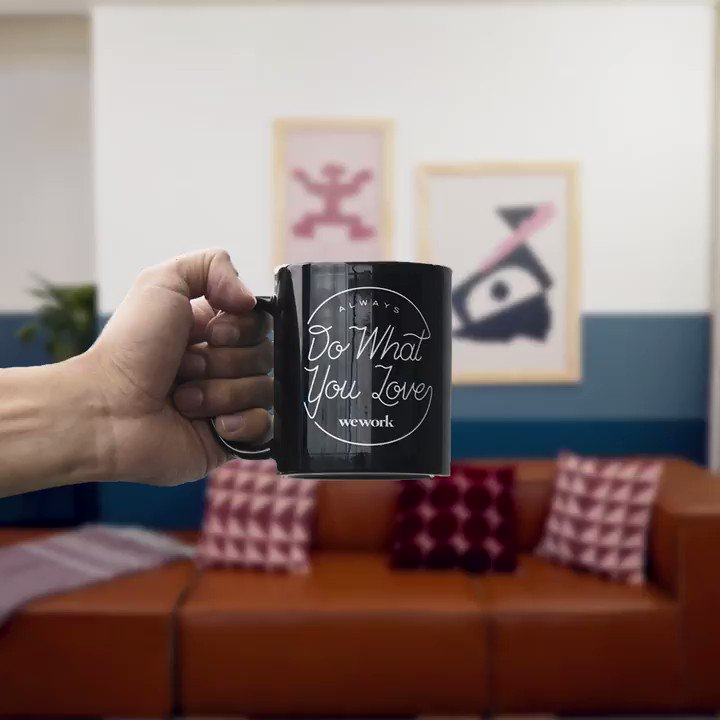wework: (337, 414, 396, 429)
